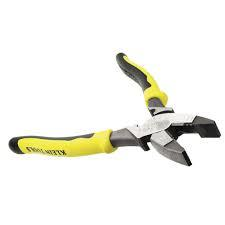pliers: (7, 51, 220, 166)
